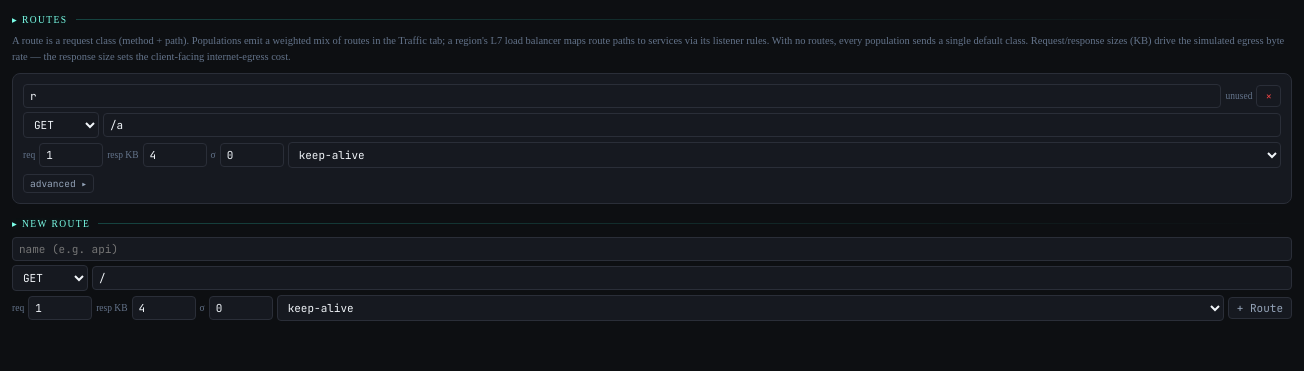
Test case: PacketMixEditor (via RoutesPanel's advanced disclosure) › an empty packet library explains where to author one instead of rendering rows
Click the button "advanced ▸". click: (58, 183)
box: [23, 174, 94, 192]
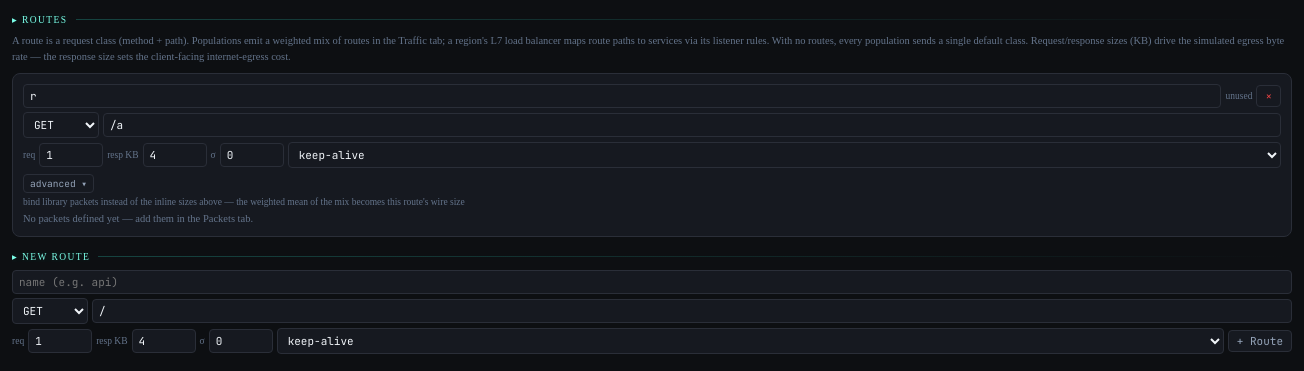
Check: the text "No packets defined yet — add them in the Packets tab." is shown, box [23, 212, 253, 224]
